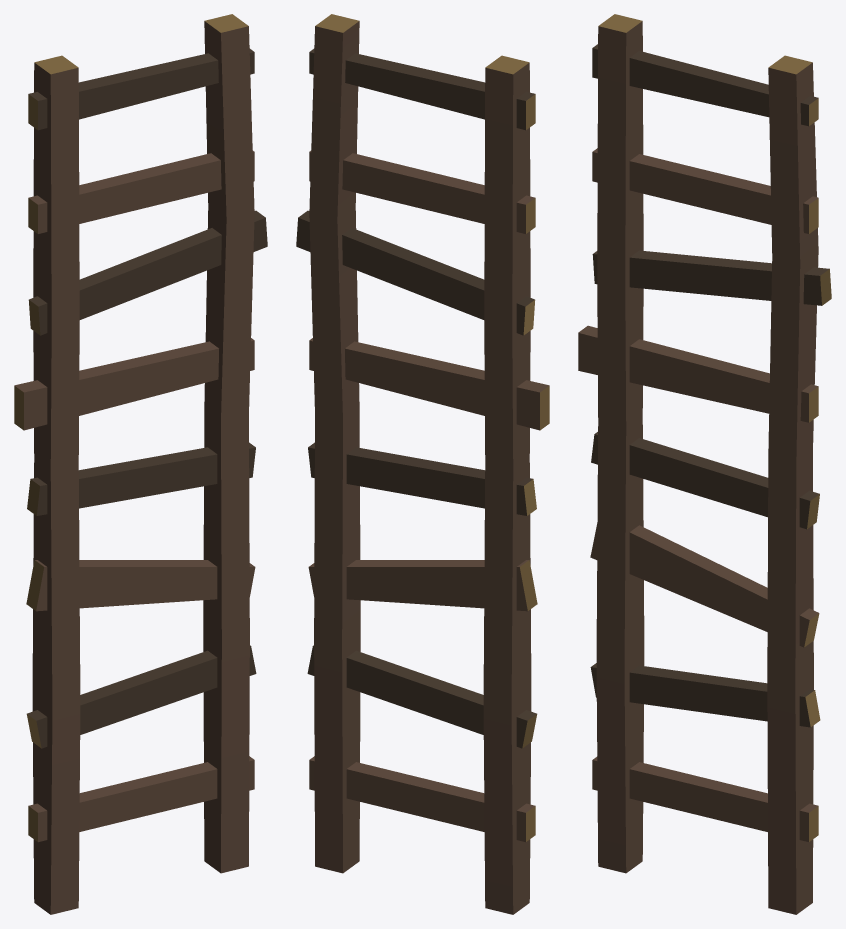
File: Ladder.fbx
3 renders of one model, left to right at view 1: azimuth 30°, elevation 25°; view 2: azimuth 150°, elevation 25°; view 3: azimuth 330°, elevation 25°, orthographic.
Parts seen in each view (by area): view 1: polySurface1518; view 2: polySurface1518; view 3: polySurface1518.
Boxes of the visible parts, <box> form: polySurface1518: <box>14,14,267,914</box>; polySurface1518: <box>296,14,549,914</box>; polySurface1518: <box>578,14,831,914</box>.
Bounding box in the file's own units: 128 × 420 × 18.03.
